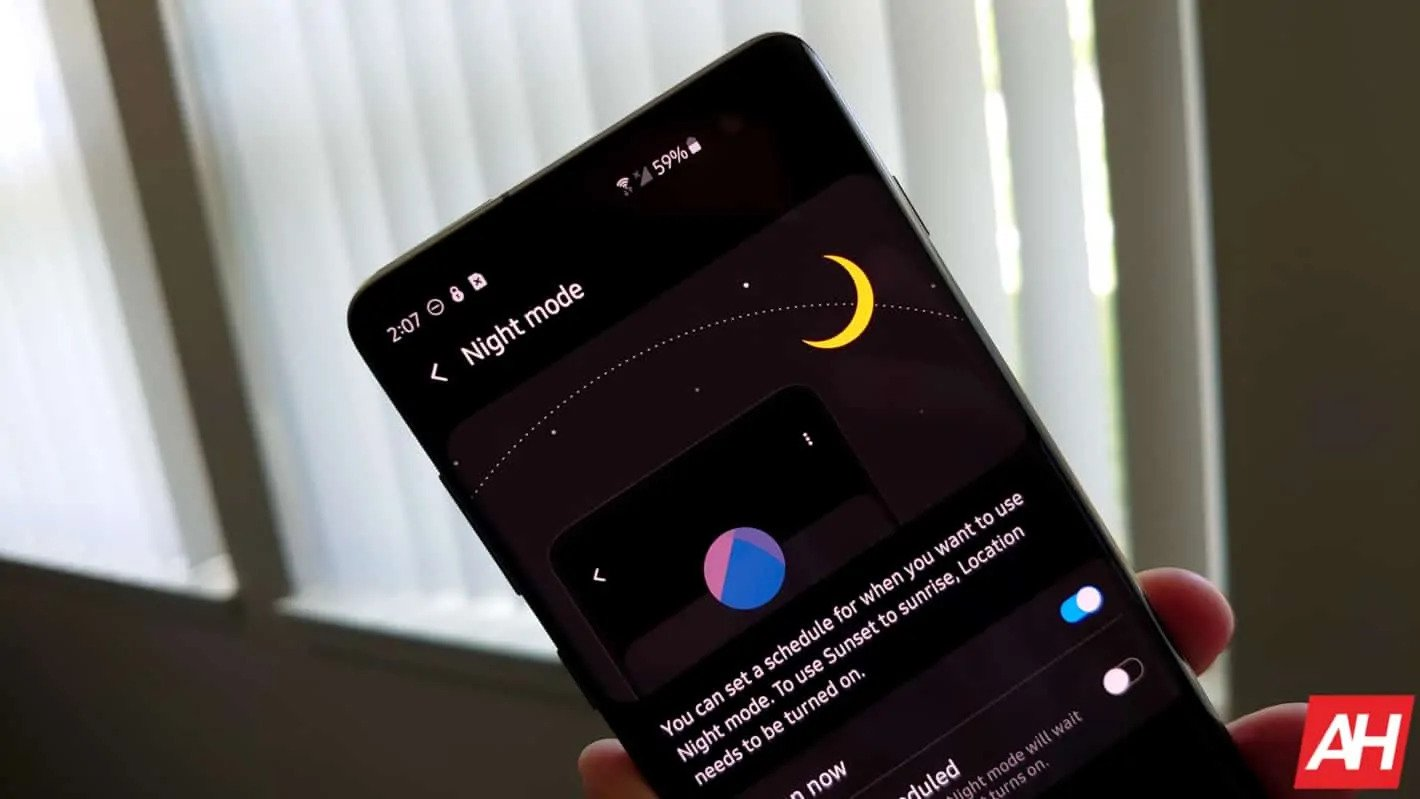Cell Phone: (362, 21, 1249, 799)
